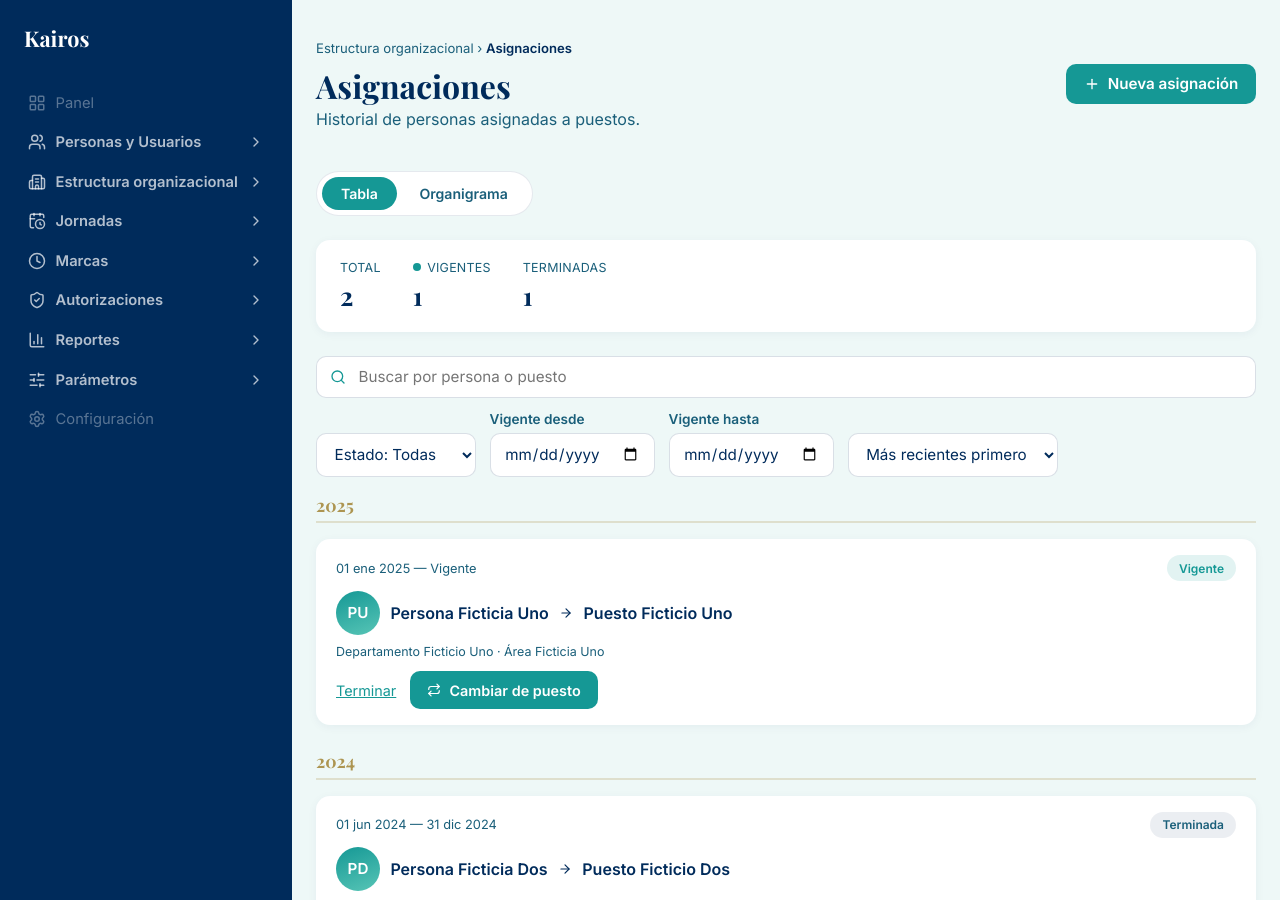
Test case: AsignacionesPage › organigrama (híbrido: árbol grande con toggle + click filtra la tabla) › click en un nodo del organigrama vuelve a la tabla, filtrada a ese puesto y su rama, con chip removible
Expected: the text "PU Persona Ficticia Uno Puesto Ficticio Uno" is shown, [336,591,732,635]
Click the tab "Organigrama".
click(464, 193)  # box [400,177,527,210]
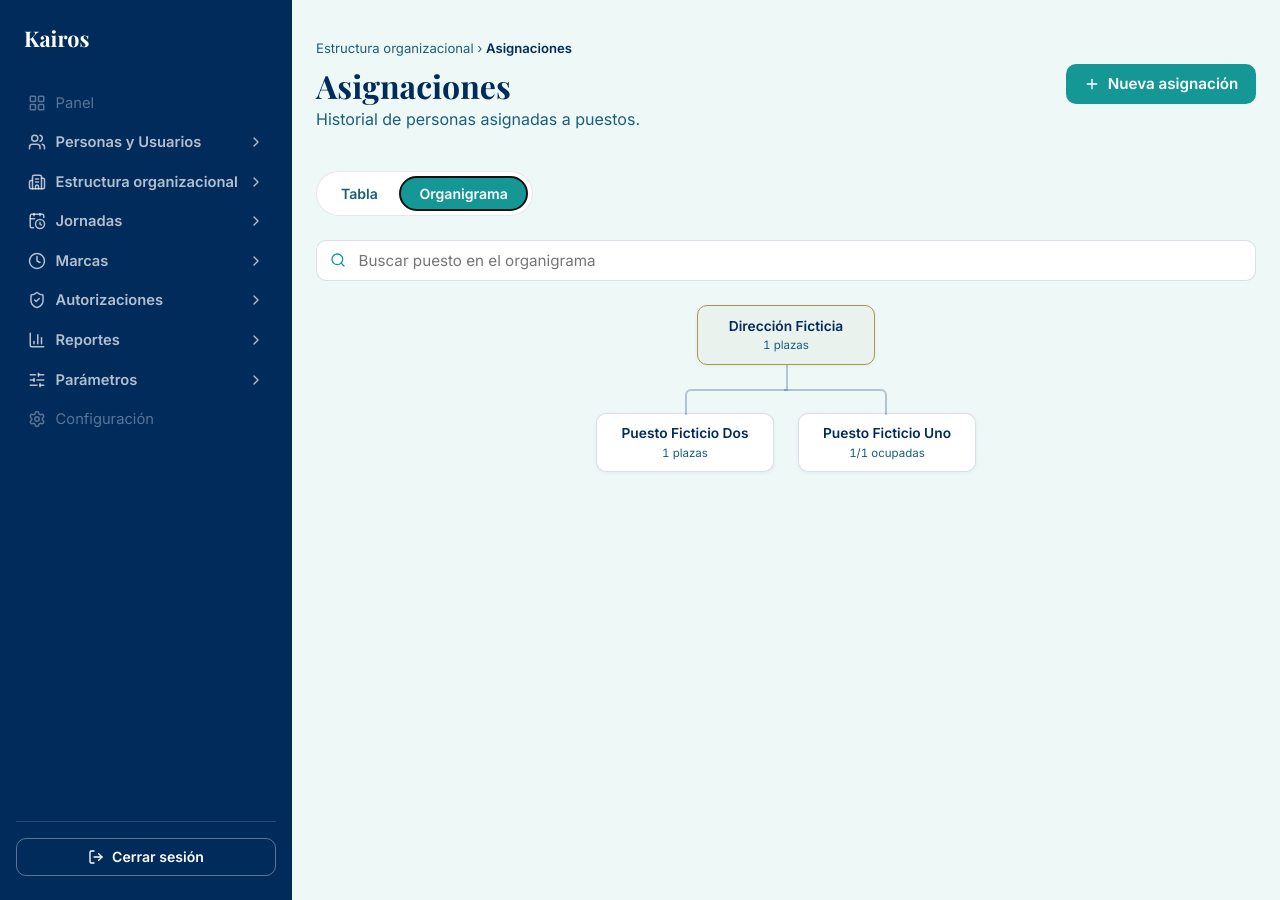
Click the text "Puesto Ficticio Uno".
click(887, 433)  # box [823,425,951,441]
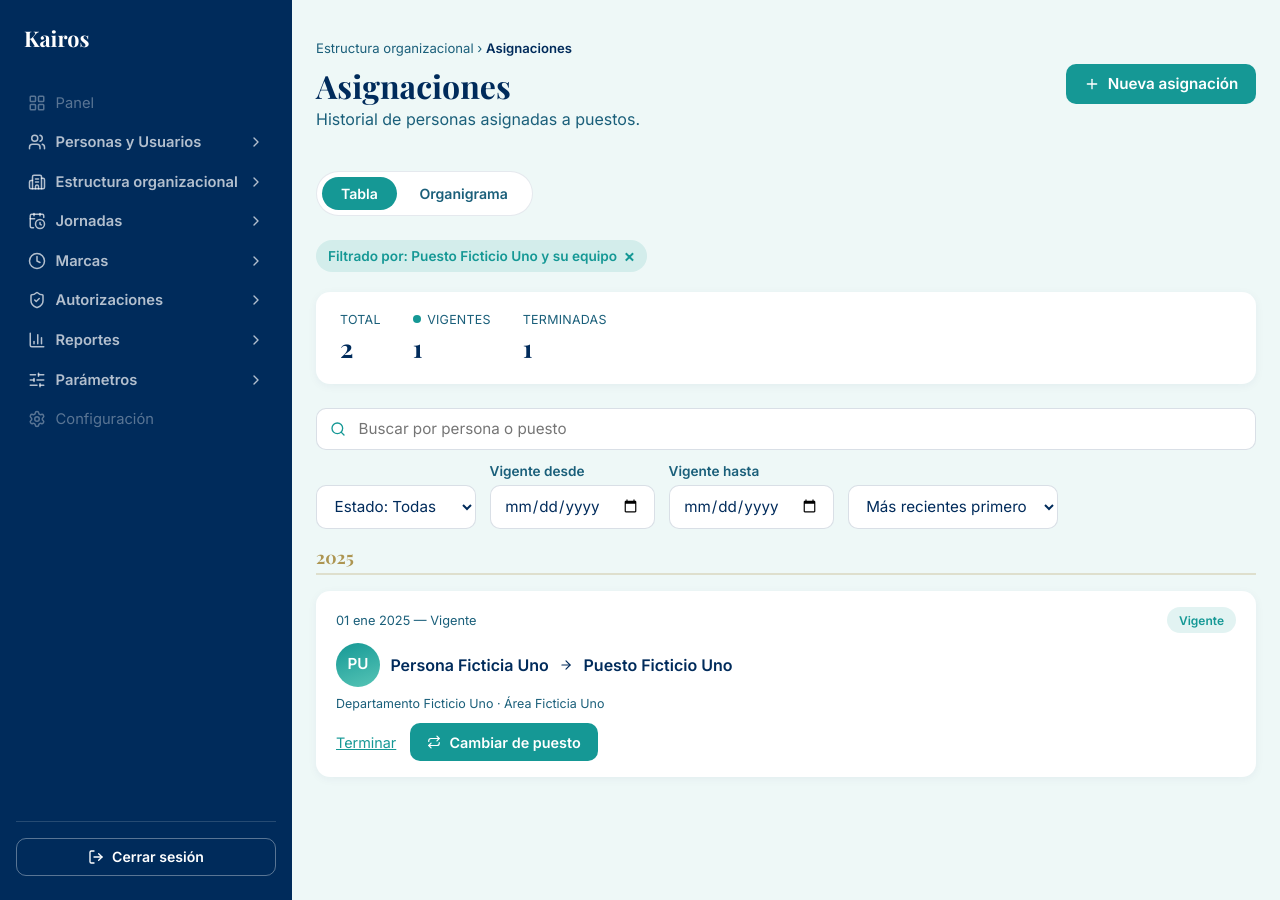
Expected: the text "Persona Ficticia Dos" is not shown
Result: the text "Filtrado por: Puesto Ficticio Uno y su equipo ×" is shown at [316,240,647,272]
Result: the text "PU Persona Ficticia Uno Puesto Ficticio Uno" is shown at [336,643,732,687]
Click the button named "quitar filtro".
click(629, 256)  # box [624,247,635,264]
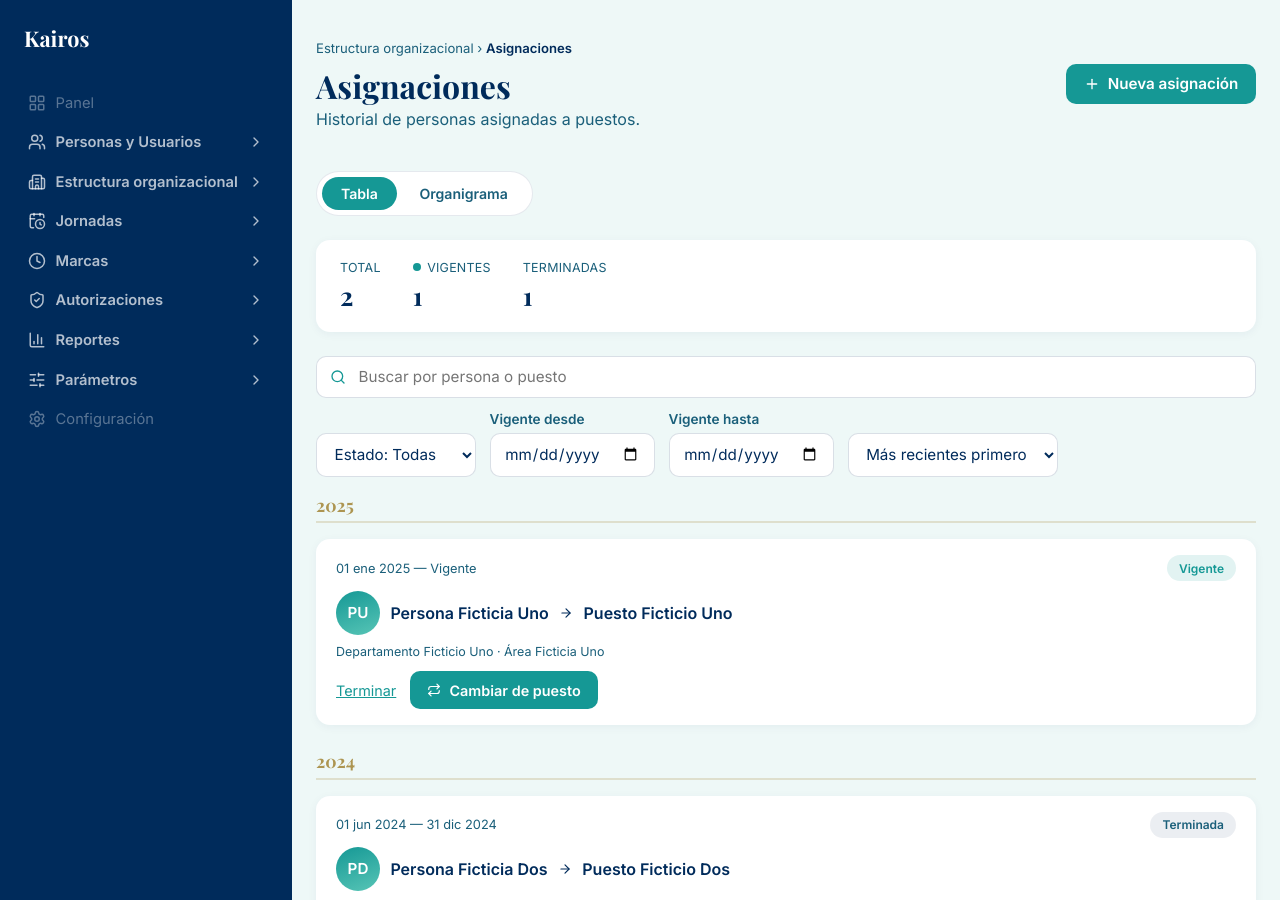
Result: the text "Filtrado por:" is gone
Result: the text "PD Persona Ficticia Dos Puesto Ficticio Dos" is shown at [336,847,730,891]
